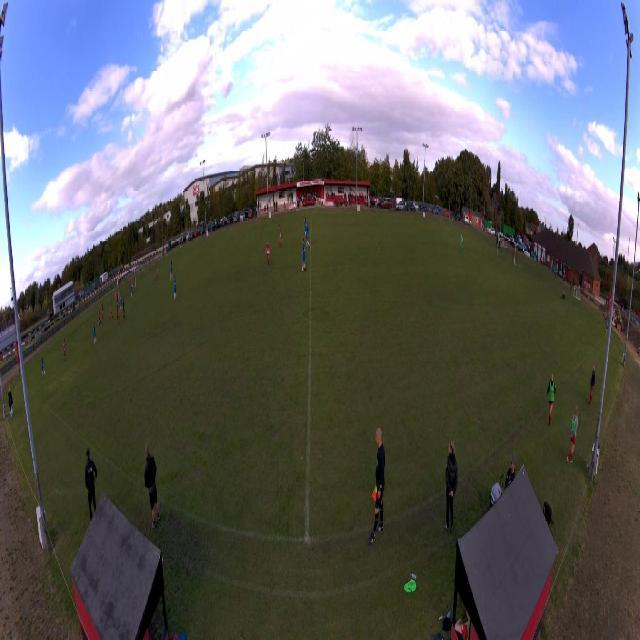ball: (115, 293, 116, 298)
player: (301, 237, 306, 273), (266, 240, 271, 269), (173, 275, 177, 303), (306, 223, 310, 249), (93, 321, 97, 346), (109, 302, 114, 321), (116, 305, 120, 327), (63, 338, 67, 360), (42, 356, 46, 378), (303, 217, 307, 238), (119, 294, 123, 314), (279, 225, 282, 249), (122, 299, 125, 321), (460, 233, 463, 255), (170, 261, 173, 281), (116, 291, 119, 310), (101, 303, 104, 321), (156, 265, 159, 282), (129, 281, 132, 298), (99, 310, 102, 327), (131, 278, 134, 295), (115, 289, 117, 305), (98, 320, 101, 326)
